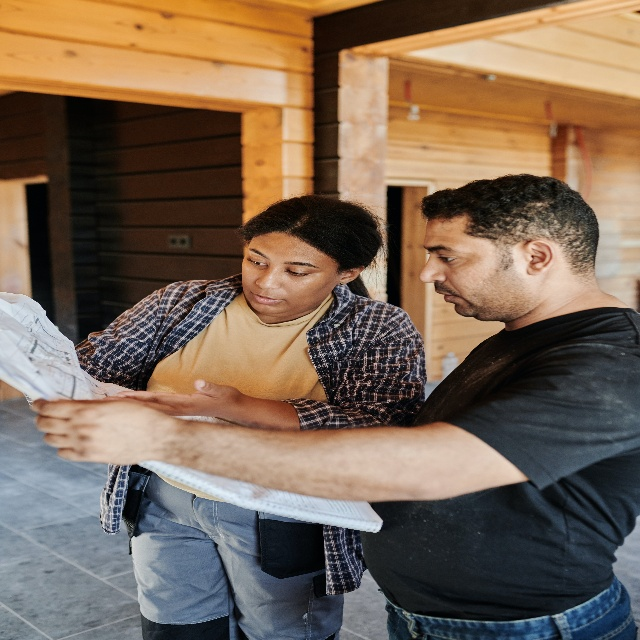Sin_guantes: (26, 387, 165, 476), (118, 371, 243, 421)
